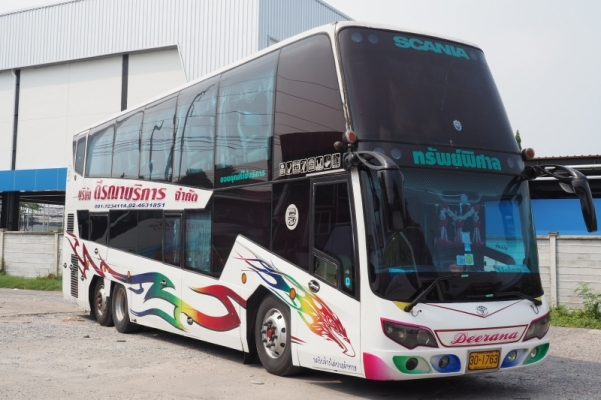bus: (58, 20, 551, 383)
